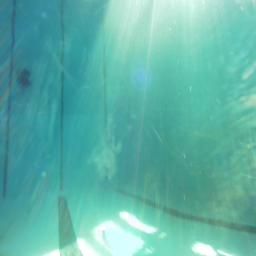Full: (17, 68, 31, 86)
